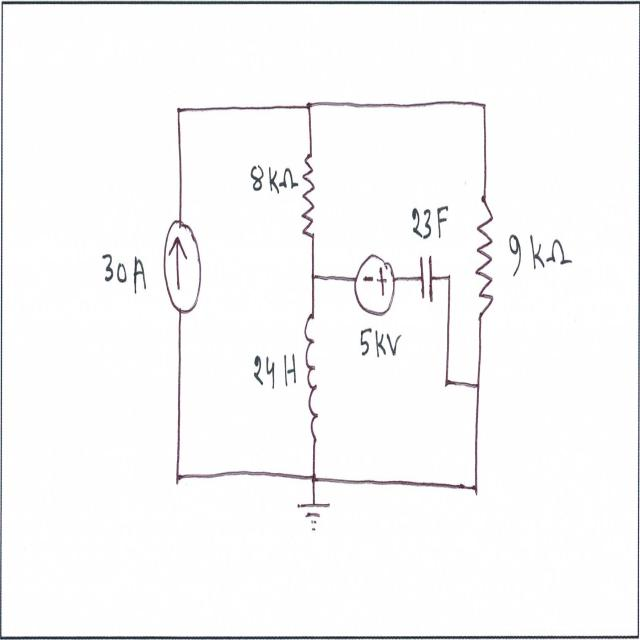capacitor: (415, 243, 436, 309)
current_source: (162, 212, 204, 324)
ground: (296, 491, 336, 536)
inductor: (304, 302, 327, 448)
resistor: (476, 189, 496, 335), (300, 138, 317, 247)
voltage_source: (352, 249, 400, 324)
